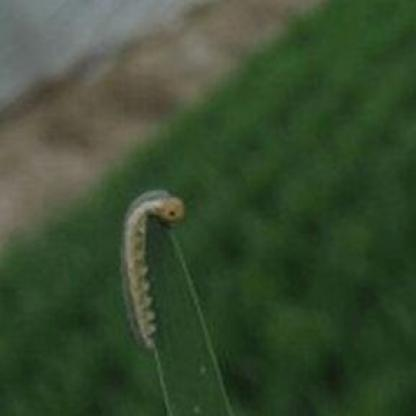sawfly: (114, 184, 189, 354)
